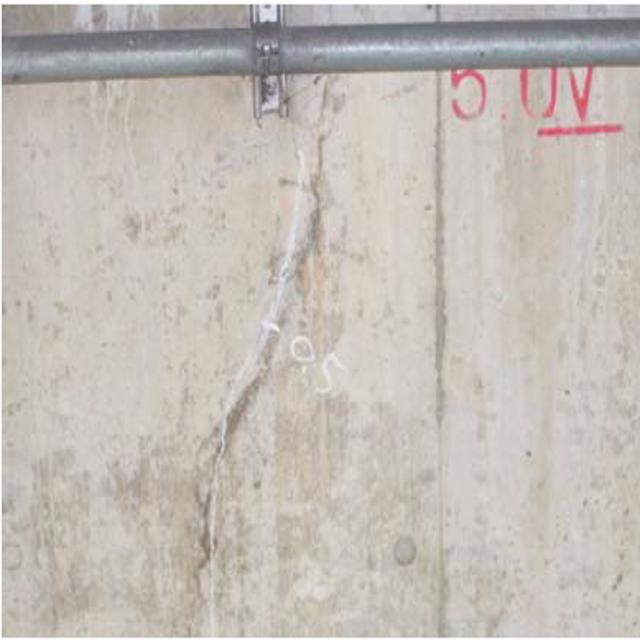crack: (197, 113, 370, 607)
